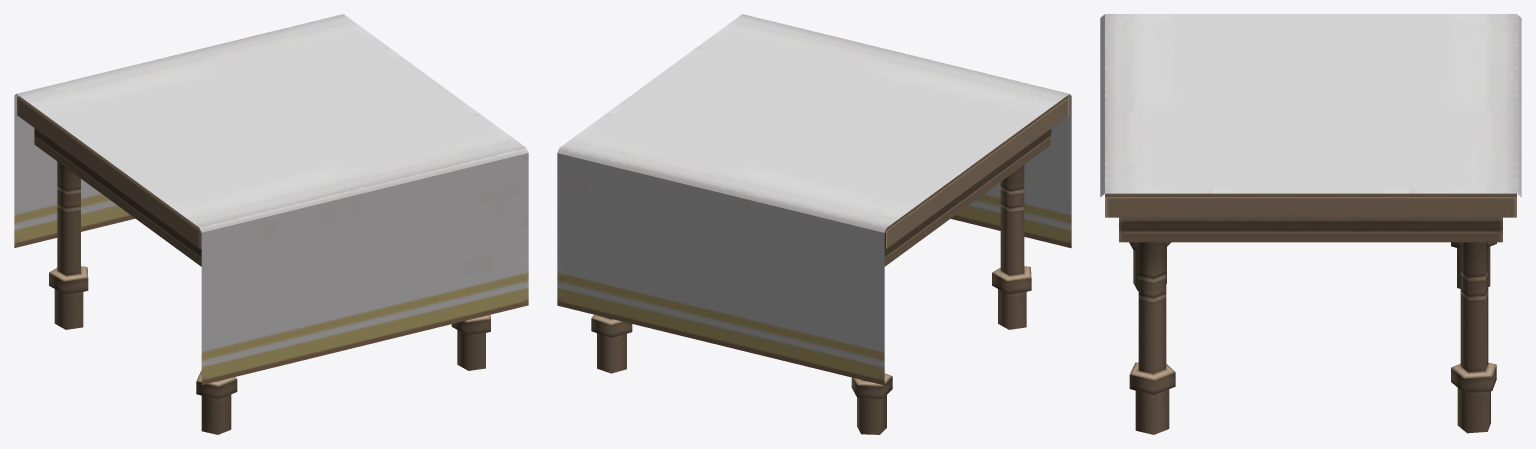
The model's file is my_teaparty_01_table_06.glb.
3 views of the same model, side by side, from view 1: azimuth 30°, elevation 25°; view 2: azimuth 150°, elevation 25°; view 3: azimuth 270°, elevation 25° (orthographic). The views are drawn at different scales.
Visible parts, largest first — view 1: my_teaparty_01_table_06; view 2: my_teaparty_01_table_06; view 3: my_teaparty_01_table_06.
Part boxes in pixels (box(x1,y1,x2,y2)): my_teaparty_01_table_06: box(14, 14, 528, 434); my_teaparty_01_table_06: box(557, 14, 1071, 434); my_teaparty_01_table_06: box(1100, 14, 1521, 434).
Bounding box in the file's own units: 0.006 × 0.00392 × 0.00595.
Materials: 1 (1 with a texture image).
